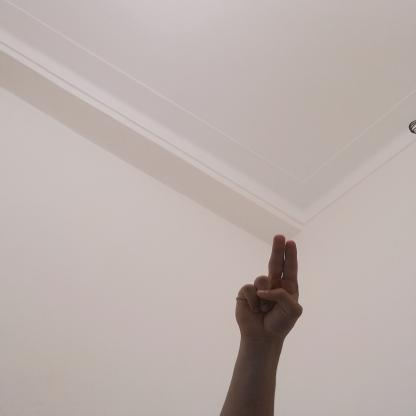TA: (222, 230, 314, 350)
